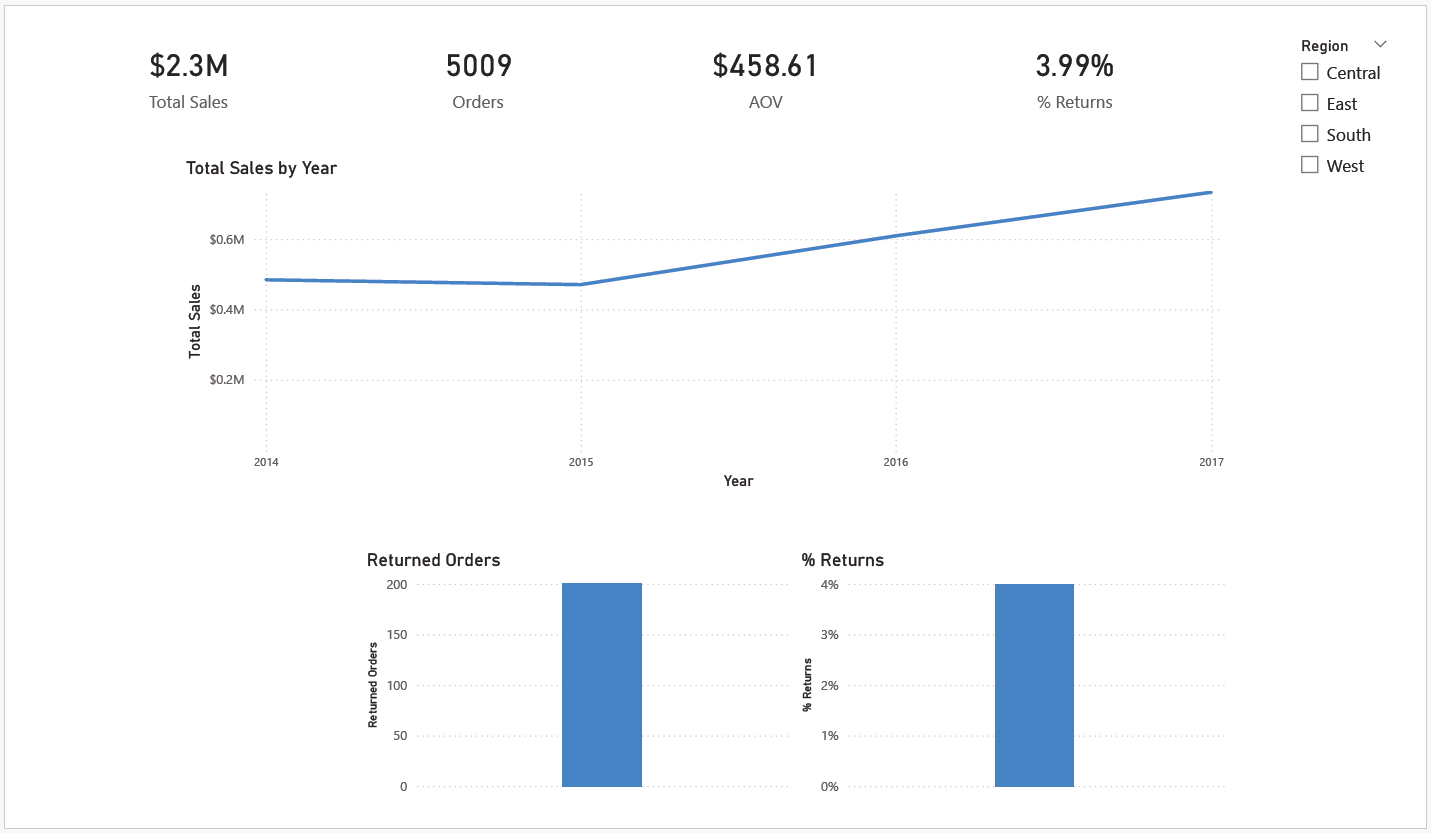

The dashboard page shown, as its layout file describes it:
{"tool":"powerbi","page":{"name":"Executive","canvas":[1280,720],"ordinal":0},"visuals":[{"type":"clusteredColumnChart","fields":{"Y":["_Measures.Returned Orders"]},"box":[309.2,483.4,406.1,235.6],"z":0},{"type":"clusteredColumnChart","fields":{"Y":["_Measures.% Returns"]},"box":[715.3,483.4,404.9,235.6],"z":1000},{"type":"slicer","fields":{"Values":["DimRegion.Region"]},"box":[1174.2,0,105.5,182.8],"z":3000},{"type":"card","fields":{"Values":["_Measures.Orders"]},"box":[308.9,0,218.5,80.7],"z":4000},{"type":"card","fields":{"Values":["_Measures.AOV"]},"box":[570.6,0,232.4,80.7],"z":5000},{"type":"card","fields":{"Values":["_Measures.% Returns"]},"box":[844.7,0,261.6,80.7],"z":6000},{"type":"card","fields":{"Values":["_Measures.Total Sales"]},"box":[26.4,0,242.1,80.7],"z":7000},{"type":"lineChart","fields":{"Y":["_Measures.Total Sales"],"Category":["DimDate.Order Date.Variation.Date Hierarchy.Year","DimDate.Order Date.Variation.Date Hierarchy.Quarter","DimDate.Order Date.Variation.Date Hierarchy.Month","DimDate.Order Date.Variation.Date Hierarchy.Day"]},"box":[139.9,116.6,980.4,316.6],"z":8000}]}

Visuals, with their boxes on the page's 1280x720 design canvas (x1, y1, x2, y2). These are canvas units, not pixel positions in the 1431x833 screenshot, which may show the page scaled, cropped or inside an application window:
clusteredColumnChart - _Measures.Returned Orders: BBox(309, 483, 715, 719)
clusteredColumnChart - _Measures.% Returns: BBox(715, 483, 1120, 719)
slicer - DimRegion.Region: BBox(1174, 0, 1280, 183)
card - _Measures.Orders: BBox(309, 0, 527, 81)
card - _Measures.AOV: BBox(571, 0, 803, 81)
card - _Measures.% Returns: BBox(845, 0, 1106, 81)
card - _Measures.Total Sales: BBox(26, 0, 268, 81)
lineChart - _Measures.Total Sales x DimDate.Order Date.Variation.Date Hierarchy.Year: BBox(140, 117, 1120, 433)
